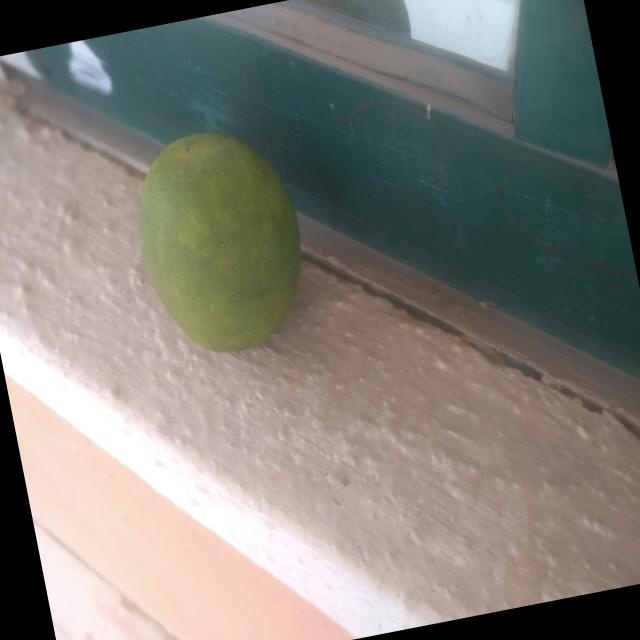agrume: (93, 107, 334, 396)
